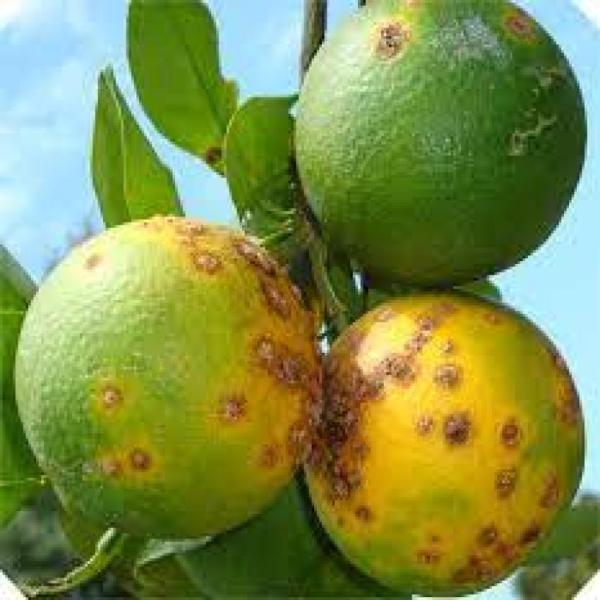Trips: (10, 205, 318, 539), (301, 284, 590, 596), (282, 0, 585, 282)
